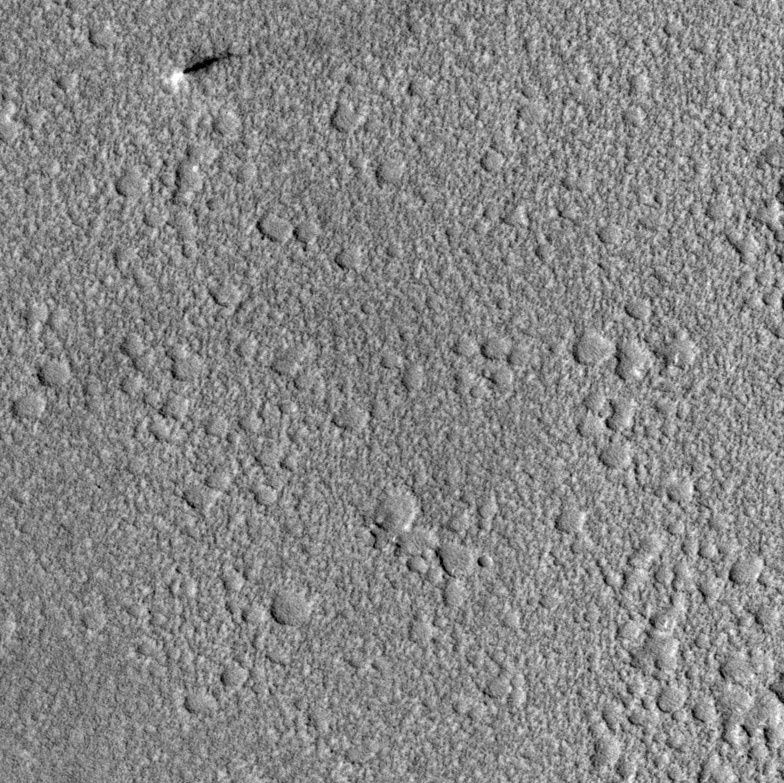dust_devil: (162, 49, 234, 94)
